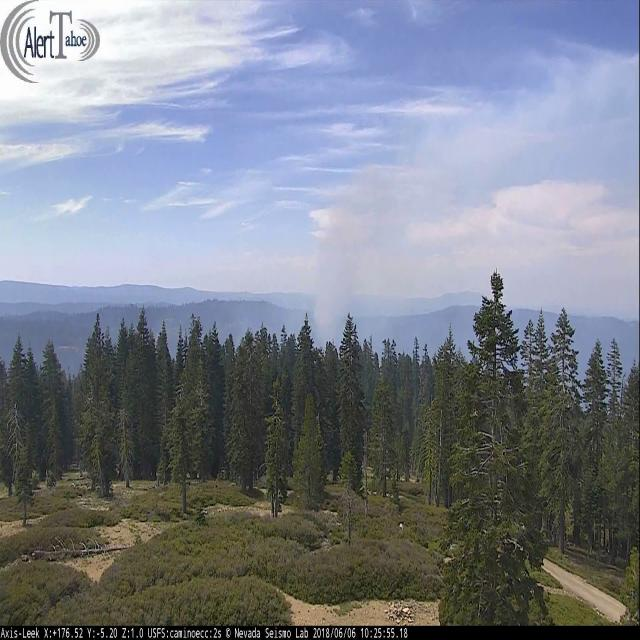smoke: (311, 54, 640, 348)
